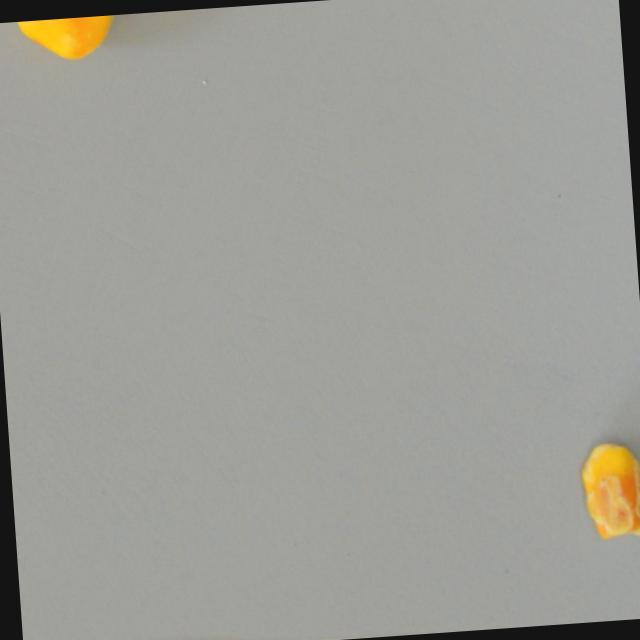dañado: (572, 430, 640, 548), (13, 13, 133, 71)
